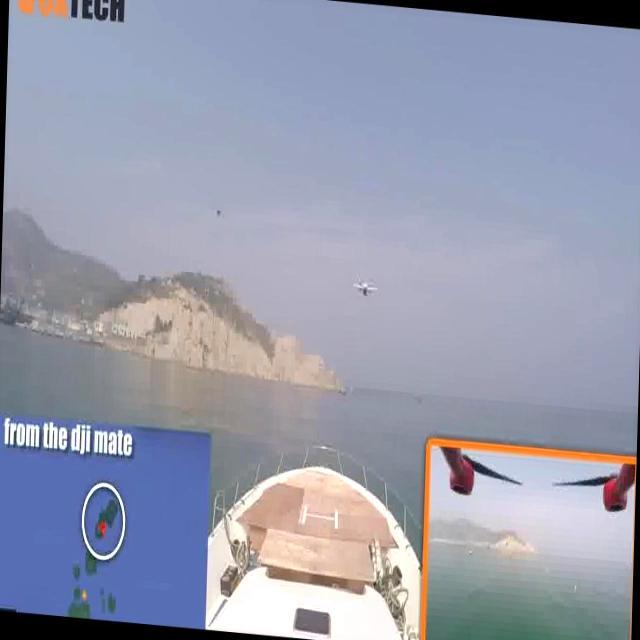drone: (348, 268, 384, 304), (206, 202, 230, 224)
